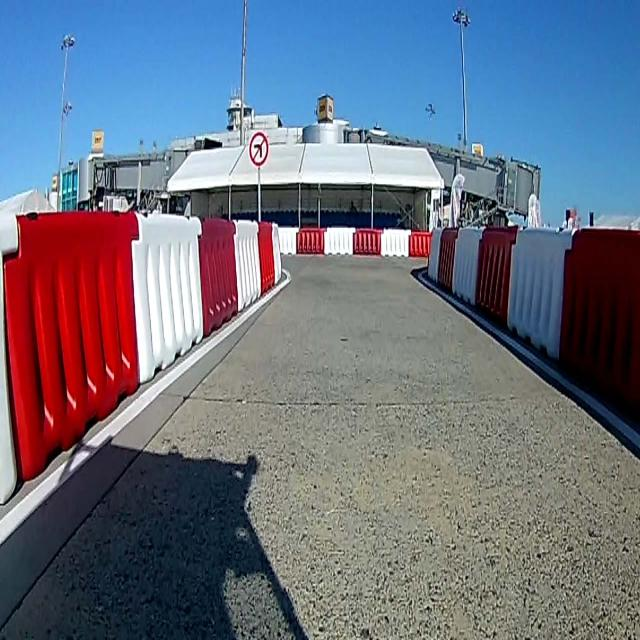soladonulmez: (250, 132, 267, 164)
